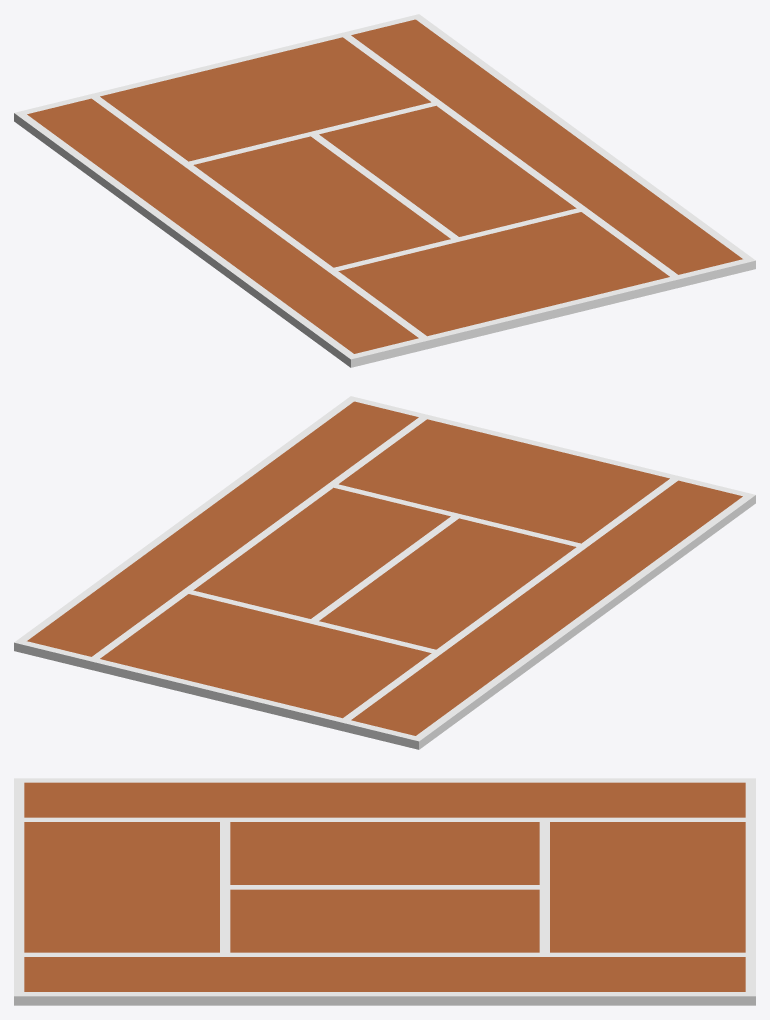
The model's file is Court3.fbx.
The picture shows the model from 3 angles, top to bottom: view 1: azimuth 30°, elevation 25°; view 2: azimuth 150°, elevation 25°; view 3: azimuth 270°, elevation 25°; orthographic projection. The views are drawn at different scales.
Parts seen in each view (by area): view 1: mergedBlocks; view 2: mergedBlocks; view 3: mergedBlocks.
Boxes of the visible parts, x1,y1,x2,y2 form: mergedBlocks: [14, 14, 755, 367]; mergedBlocks: [14, 396, 755, 749]; mergedBlocks: [14, 778, 755, 1005].
Bounding box in the file's own units: 50 × 1 × 72.
